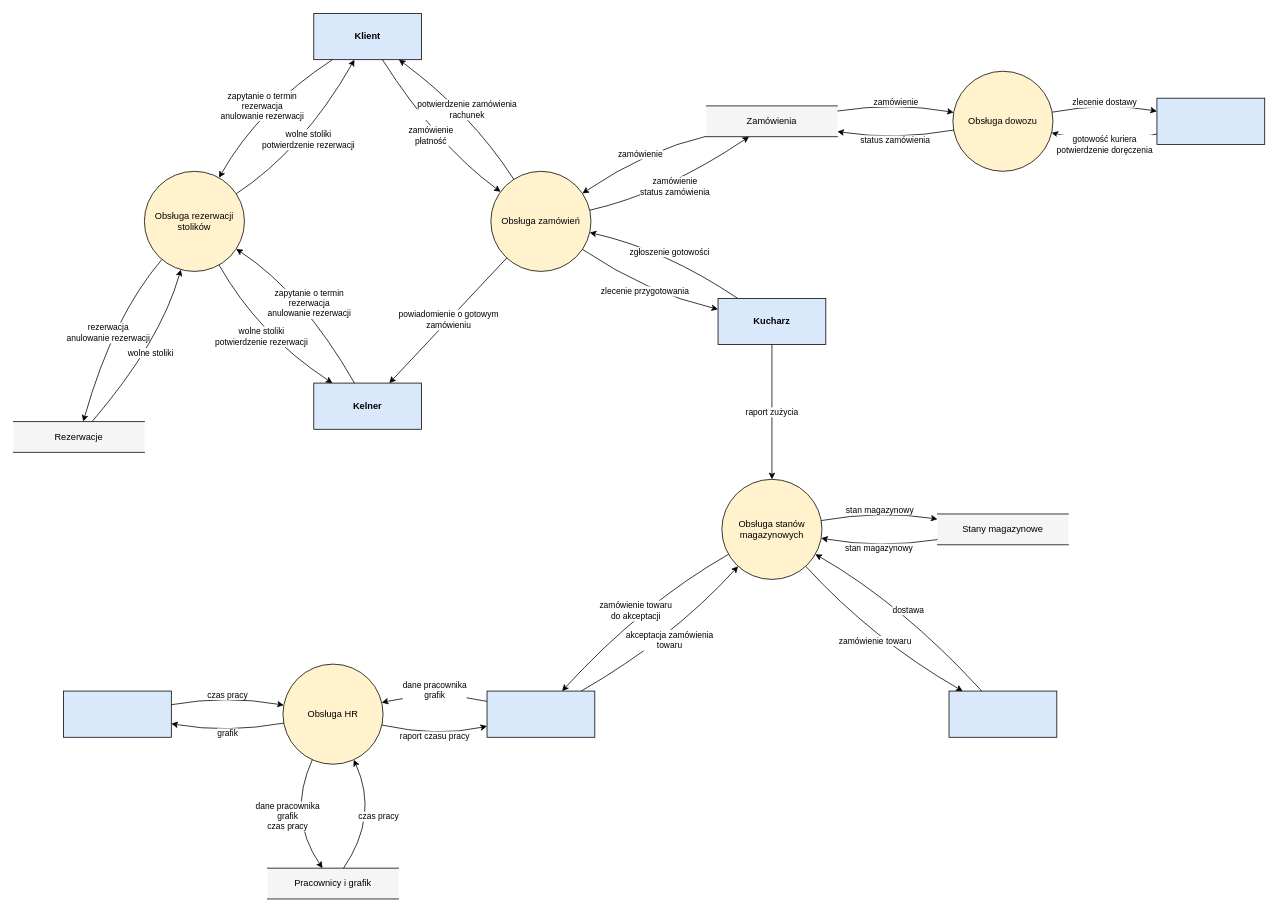
The diagram is 1278 pixels wide and 912 high, and some of its shapes have lost their labels. Here are the shapes that lost their labels. From the top down, the centre of each, then its label:
(1210,120): Kurier
(117,713): Pracownik
(540,713): Menedżer
(1002,713): Dostawca
